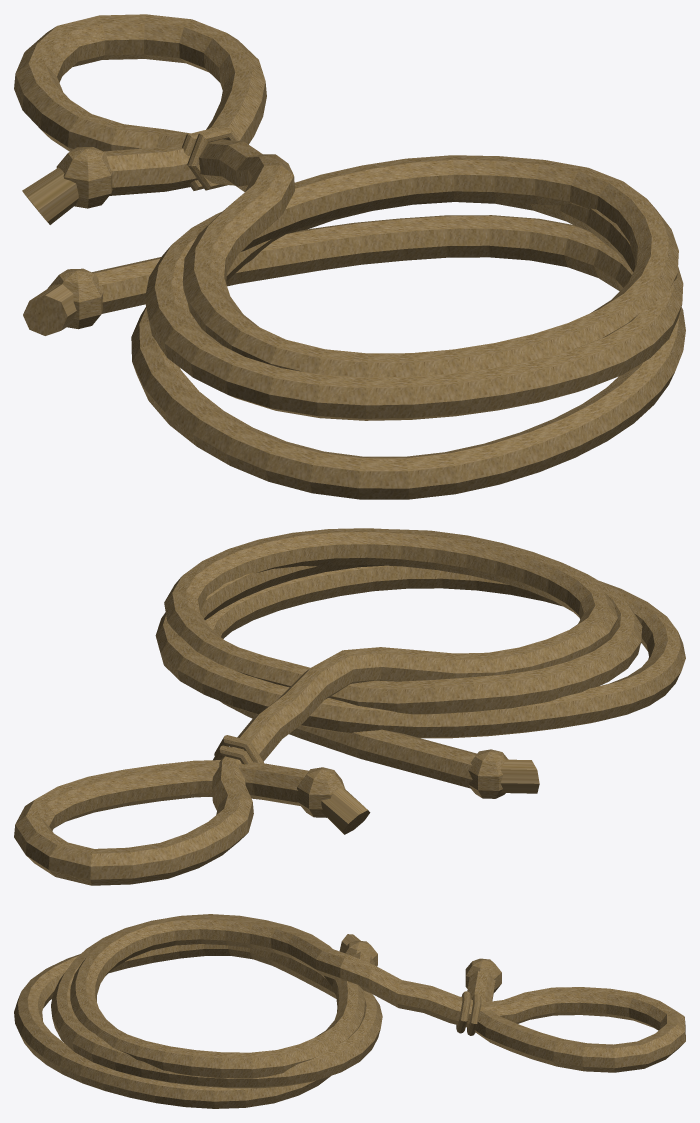
Rendered from corda.glb.
3 renders of one model, top to bottom at view 1: azimuth 30°, elevation 25°; view 2: azimuth 150°, elevation 25°; view 3: azimuth 270°, elevation 25°, orthographic. The views are drawn at different scales.
Visible parts, largest first — view 1: Cube; view 2: Cube; view 3: Cube.
Boxes of the visible parts, box(x1,y1,x2,y2) form: Cube: box(14, 14, 685, 499); Cube: box(14, 528, 685, 885); Cube: box(14, 914, 685, 1108).
Bounding box in the file's own units: 1.07 × 0.2491 × 1.89.
Materials: 1 (1 with a texture image).
